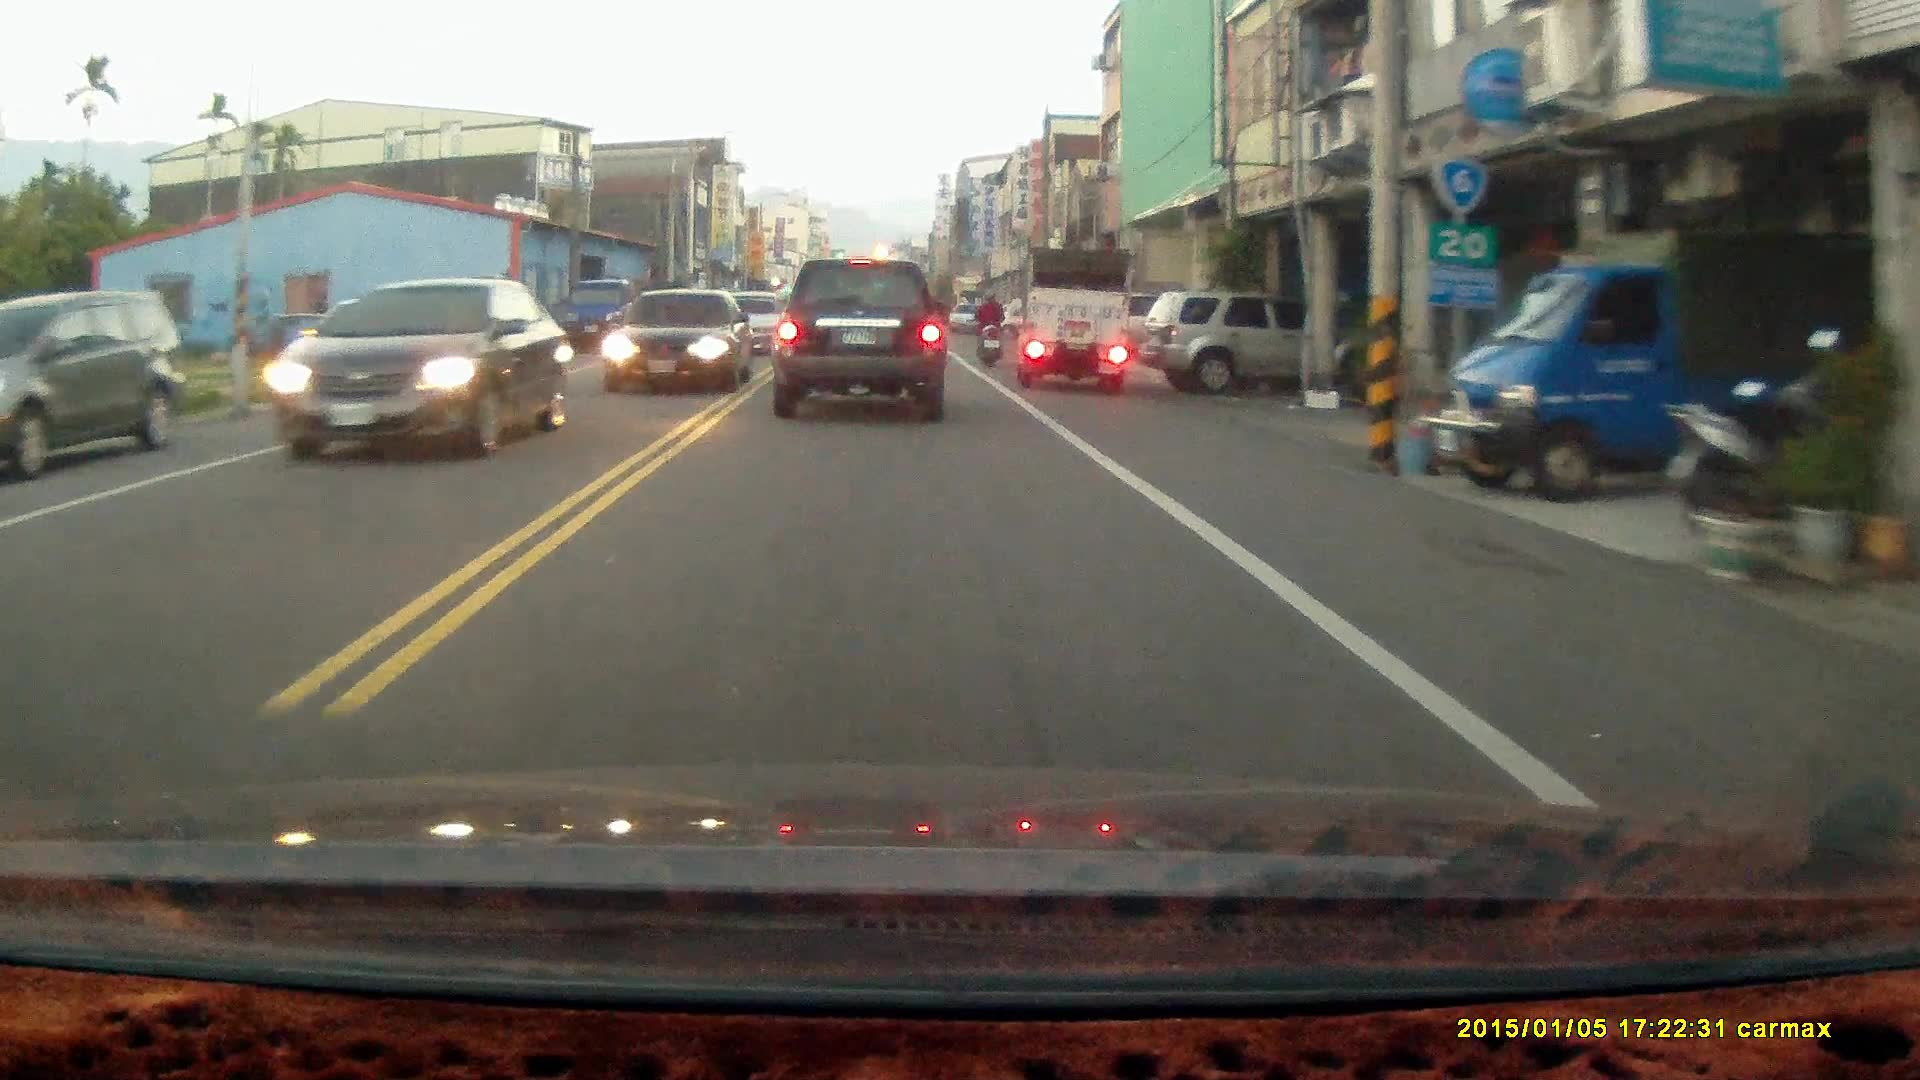rider: (969, 286, 1006, 370)
vehicle: (1440, 191, 1824, 507), (267, 275, 571, 471), (3, 290, 191, 481), (768, 262, 948, 429), (1140, 287, 1312, 396), (601, 287, 757, 394), (1023, 249, 1134, 392), (568, 284, 669, 366)
